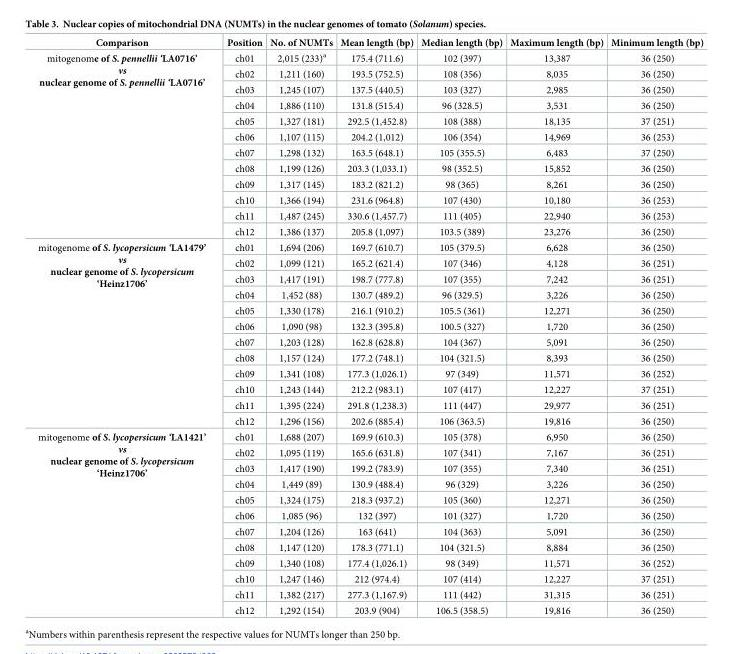table: (37, 37, 702, 615)
table column: (37, 37, 215, 615), (505, 37, 606, 615), (606, 37, 702, 615), (416, 37, 505, 615), (335, 37, 416, 615), (265, 37, 335, 615), (215, 37, 265, 615)
table column header: (37, 37, 702, 49)
table row: (37, 49, 702, 66), (37, 238, 702, 255), (37, 81, 702, 97), (37, 97, 702, 113), (37, 113, 702, 129), (37, 144, 702, 160), (37, 160, 702, 176), (37, 176, 702, 192), (37, 192, 702, 208), (37, 255, 702, 271), (37, 286, 702, 302), (37, 302, 702, 318), (37, 318, 702, 334), (37, 334, 702, 350), (37, 365, 702, 381), (37, 381, 702, 397), (37, 397, 702, 413), (37, 428, 702, 444), (37, 444, 702, 460), (37, 460, 702, 476), (37, 476, 702, 492), (37, 507, 702, 523), (37, 523, 702, 539), (37, 539, 702, 555), (37, 555, 702, 571), (37, 586, 702, 602), (37, 66, 702, 81), (37, 129, 702, 144), (37, 208, 702, 223), (37, 223, 702, 238), (37, 271, 702, 286), (37, 350, 702, 365), (37, 413, 702, 428), (37, 492, 702, 507), (37, 571, 702, 586), (37, 602, 702, 615), (37, 37, 702, 49)
table spanning cell: (37, 238, 215, 428), (37, 49, 215, 238), (37, 428, 215, 615)
